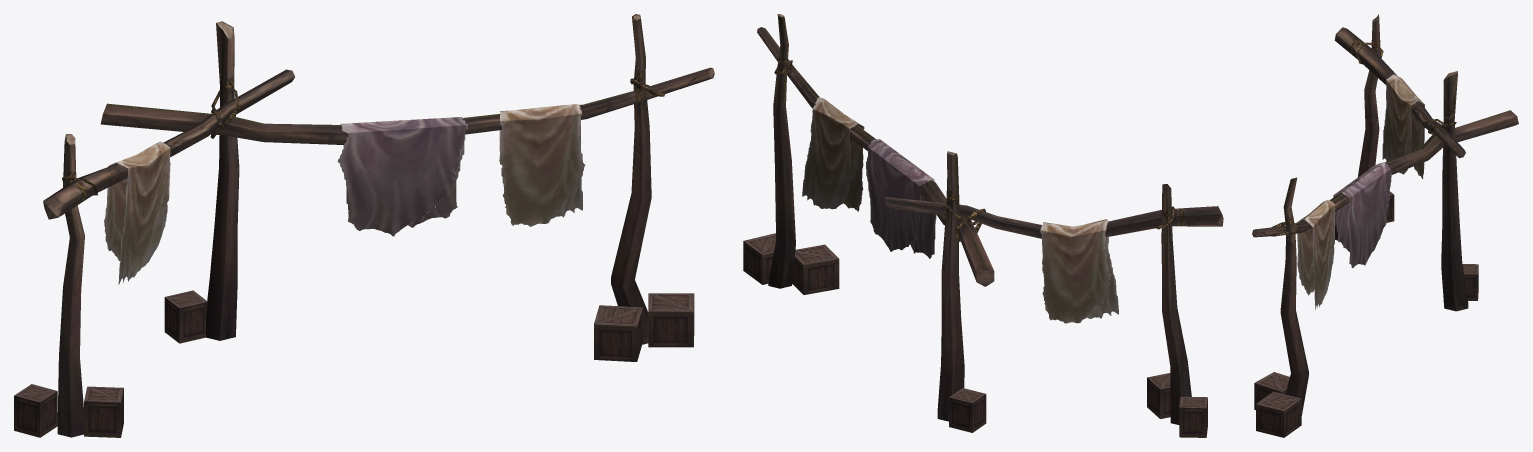
Rendered from pve_wujianA_uv4.FBX.
The picture shows the model from 3 angles, left to right: view 1: azimuth 30°, elevation 25°; view 2: azimuth 150°, elevation 25°; view 3: azimuth 270°, elevation 25°; orthographic projection. The views are drawn at different scales.
Visible parts, largest first — view 1: s7_fightpve_yijia1; view 2: s7_fightpve_yijia1; view 3: s7_fightpve_yijia1.
Boxes of the visible parts, x1,y1,x2,y2 form: s7_fightpve_yijia1: [14, 14, 714, 437]; s7_fightpve_yijia1: [743, 14, 1223, 437]; s7_fightpve_yijia1: [1252, 14, 1518, 437].
Bounding box in the file's own units: 478 × 238 × 238.
